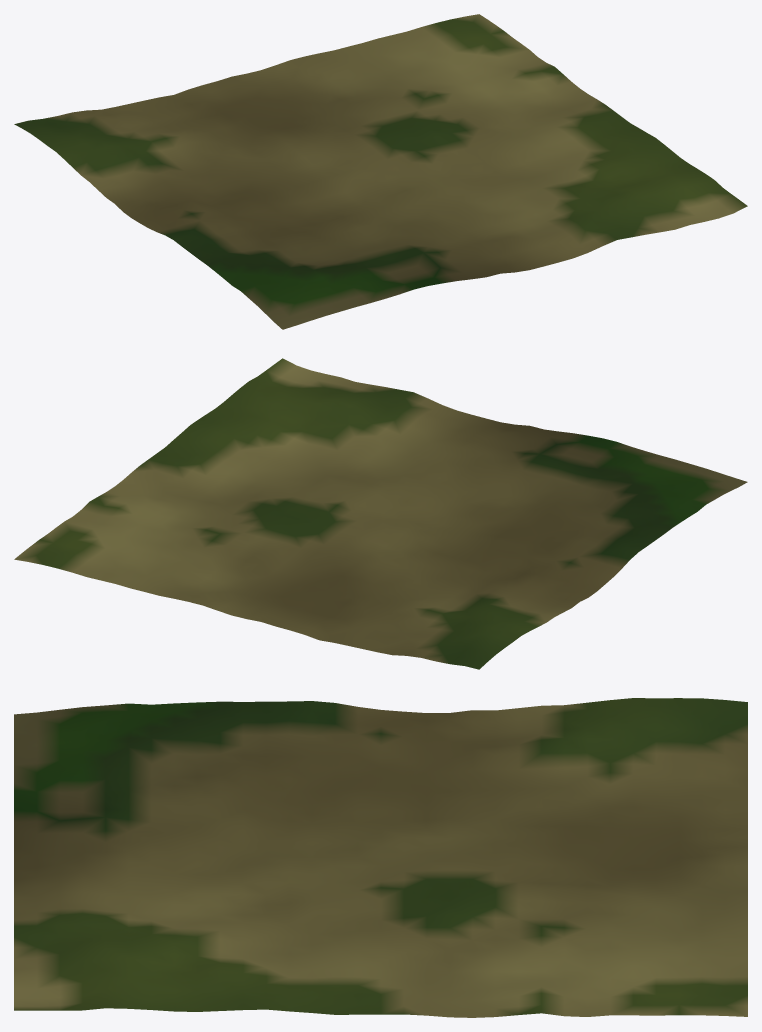
The model's file is terrain_lod0_2_-1.obj.
3 renders of one model, top to bottom at view 1: azimuth 30°, elevation 25°; view 2: azimuth 150°, elevation 25°; view 3: azimuth 270°, elevation 25°, orthographic. The views are drawn at different scales.
Parts seen in each view (by area): view 1: terrain_lod0_2_-1; view 2: terrain_lod0_2_-1; view 3: terrain_lod0_2_-1.
Boxes of the visible parts, bbox=[...] form: terrain_lod0_2_-1: bbox=[14, 14, 747, 329]; terrain_lod0_2_-1: bbox=[14, 358, 747, 669]; terrain_lod0_2_-1: bbox=[14, 698, 747, 1017].
Bounding box in the file's own units: 128 × 4.21 × 128.
